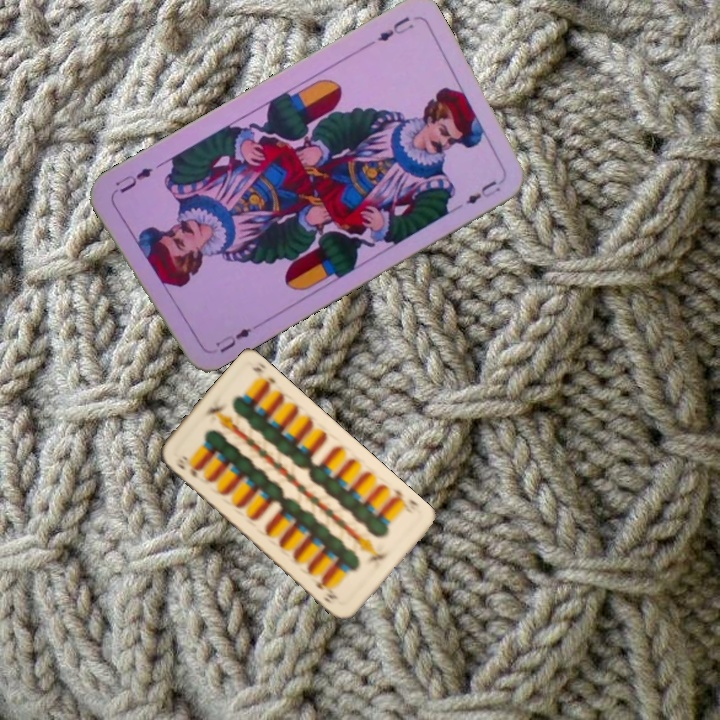E10: (170, 453, 202, 480), (387, 485, 421, 509)
EU: (372, 12, 417, 44), (211, 324, 254, 356)
